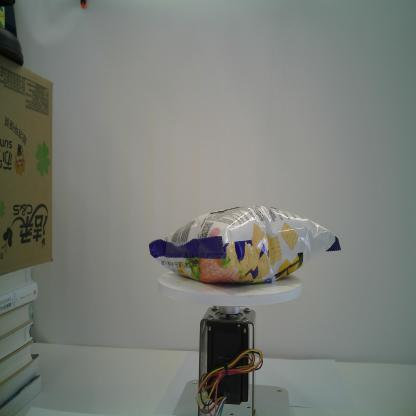Puffed Food: (148, 205, 341, 284)
